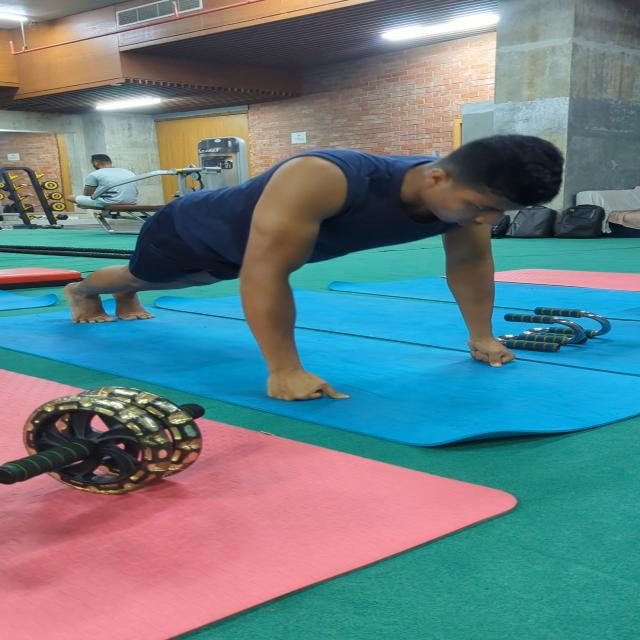Normal_PushUps: (50, 135, 575, 405)
